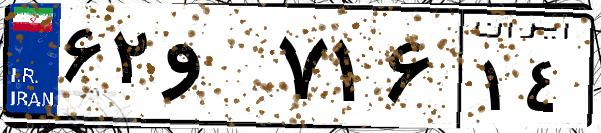1: (330, 28, 385, 110), (475, 38, 525, 113)
2: (110, 28, 158, 98)
4: (525, 38, 570, 115)
6: (385, 28, 445, 110), (57, 26, 110, 100)
7: (270, 28, 330, 110)
و: (158, 20, 270, 120)
